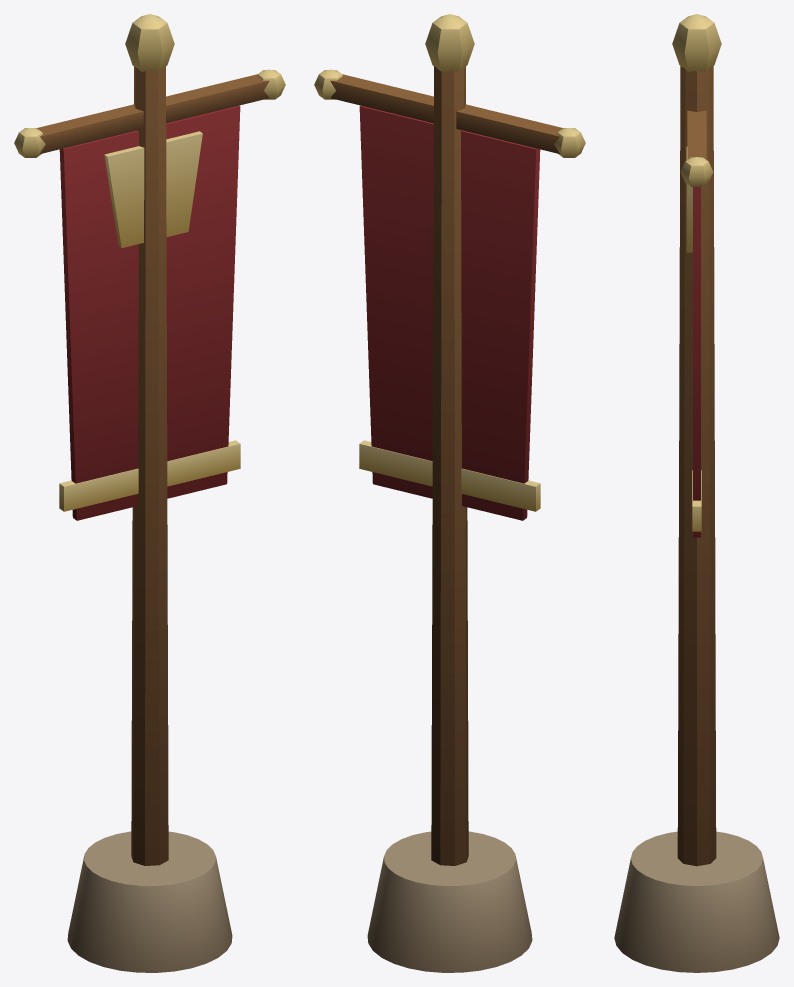
The model's file is plaza_BannerPost_b.glb.
3 renders of one model, left to right at view 1: azimuth 30°, elevation 25°; view 2: azimuth 150°, elevation 25°; view 3: azimuth 270°, elevation 25°, orthographic.
Visible parts, largest first — view 1: BannerPost; view 2: BannerPost; view 3: BannerPost.
Part boxes in pixels (bbox=[...]): BannerPost: bbox=[14, 14, 285, 972]; BannerPost: bbox=[314, 14, 585, 972]; BannerPost: bbox=[614, 14, 779, 972].
Size of what is drawn, in the model's own units: 1.1 by 3.7 by 0.6.
Materials: 1 (1 with a texture image).
